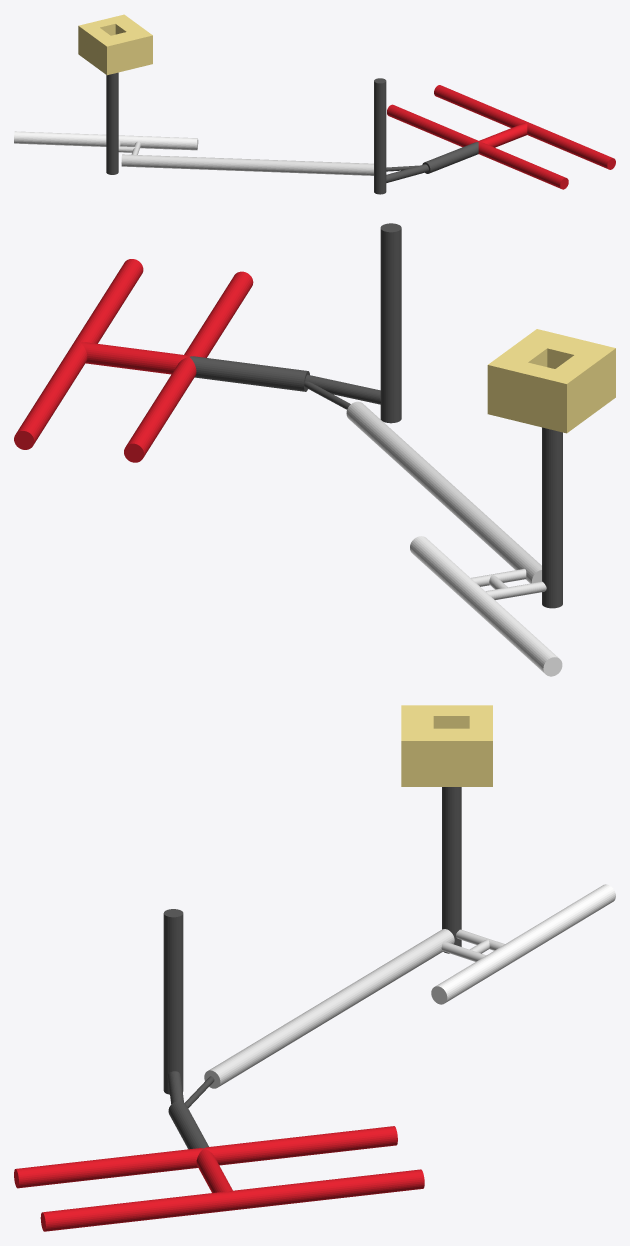
The picture shows the model from 3 angles, top to bottom: view 1: azimuth 30°, elevation 25°; view 2: azimuth 150°, elevation 25°; view 3: azimuth 270°, elevation 25°; orthographic projection. The views are drawn at different scales.
Parts seen in each view (by area): view 1: Cube, Cylinder.009, Cylinder.012, Cylinder.006, Cylinder.005, Cylinder.001, Cylinder.002, Cylinder.011, Cylinder.013, Cylinder.010; view 2: Cube, Cylinder.009, Cylinder.006, Cylinder.012, Cylinder.001, Cylinder.005, Cylinder.002, Cylinder.011, Cylinder.013, Cylinder.010, Cylinder.008; view 3: Cylinder.006, Cube, Cylinder.012, Cylinder.009, Cylinder.005, Cylinder.001, Cylinder.002, Cylinder.011, Cylinder.013.
Part boxes in pixels (box(x1,y1,x2,y2)): Cube: box(78, 14, 152, 75); Cylinder.009: box(121, 154, 373, 175); Cylinder.012: box(387, 104, 568, 189); Cylinder.006: box(434, 85, 615, 169); Cylinder.005: box(14, 131, 198, 150); Cylinder.001: box(374, 78, 386, 194); Cylinder.002: box(106, 72, 118, 174); Cylinder.011: box(422, 142, 478, 173); Cylinder.013: box(478, 122, 527, 147); Cylinder.010: box(386, 164, 428, 182); Cube: box(487, 329, 615, 433); Cylinder.009: box(346, 401, 541, 583); Cylinder.006: box(14, 259, 143, 449); Cylinder.012: box(124, 271, 253, 462); Cylinder.001: box(380, 223, 401, 423); Cylinder.005: box(410, 536, 562, 676); Cylinder.002: box(542, 427, 562, 608); Cylinder.011: box(190, 356, 309, 391); Cylinder.013: box(79, 342, 188, 374); Cylinder.010: box(305, 374, 380, 404); Cylinder.008: box(485, 581, 546, 600); Cylinder.006: box(40, 1169, 424, 1231); Cube: box(401, 705, 492, 786); Cylinder.012: box(14, 1126, 397, 1188); Cylinder.009: box(204, 929, 454, 1088); Cylinder.005: box(431, 884, 615, 1004); Cylinder.001: box(163, 909, 183, 1094); Cylinder.002: box(442, 787, 461, 953); Cylinder.011: box(168, 1101, 208, 1149); Cylinder.013: box(196, 1148, 232, 1192).
Size of the model in its own units: 24.24 by 7.69 by 18.42.
